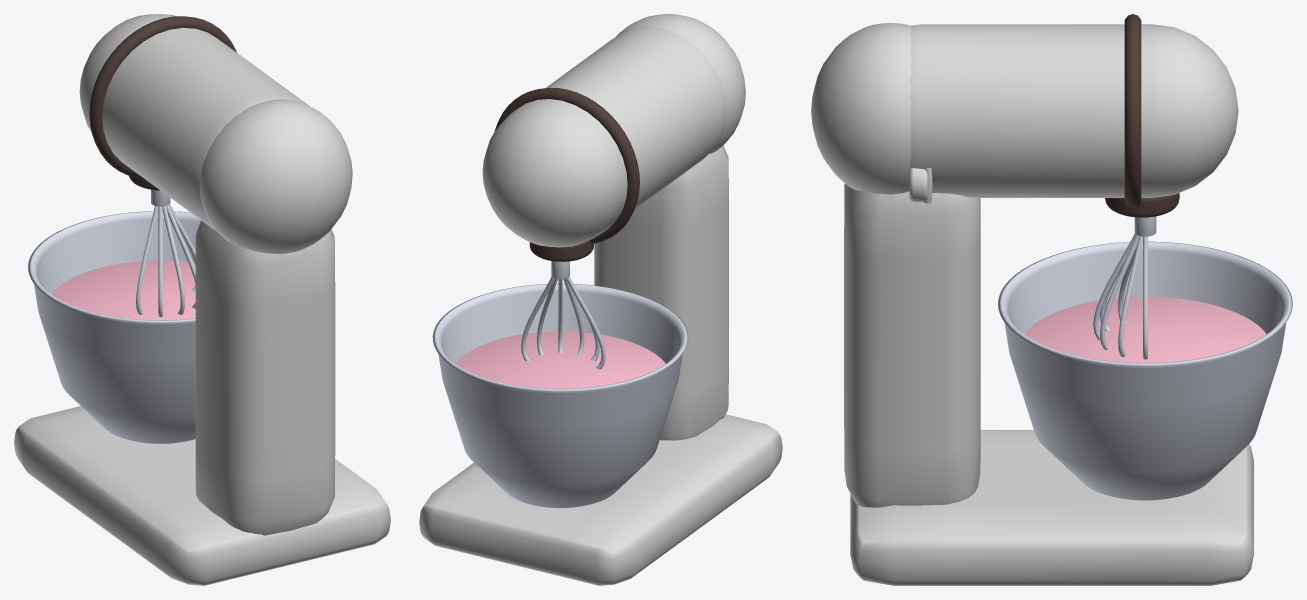
The model's file is CakeMixer.obj.
3 views of the same model, side by side, from view 1: azimuth 30°, elevation 25°; view 2: azimuth 150°, elevation 25°; view 3: azimuth 270°, elevation 25° (orthographic). The views are drawn at different scales.
Parts seen in each view (by area): view 1: Body, Bowl, Batter, Trim, Whisk; view 2: Body, Bowl, Batter, Trim, Whisk; view 3: Body, Bowl, Batter, Trim, Whisk.
Part boxes in pixels (<box>): Body: <box>14,14,390,585</box>; Bowl: <box>28,211,200,443</box>; Batter: <box>51,260,195,319</box>; Trim: <box>89,16,236,190</box>; Whisk: <box>136,189,195,316</box>; Body: <box>419,14,782,585</box>; Bowl: <box>432,283,688,508</box>; Batter: <box>455,331,665,388</box>; Trim: <box>494,87,639,261</box>; Whisk: <box>521,261,605,369</box>; Body: <box>811,23,1253,585</box>; Bowl: <box>998,241,1292,500</box>; Batter: <box>1024,296,1266,362</box>; Trim: <box>1105,14,1179,217</box>; Whisk: <box>1093,216,1156,359</box>.
Size of the model in its own units: 9.5 by 18.33 by 15.52.
